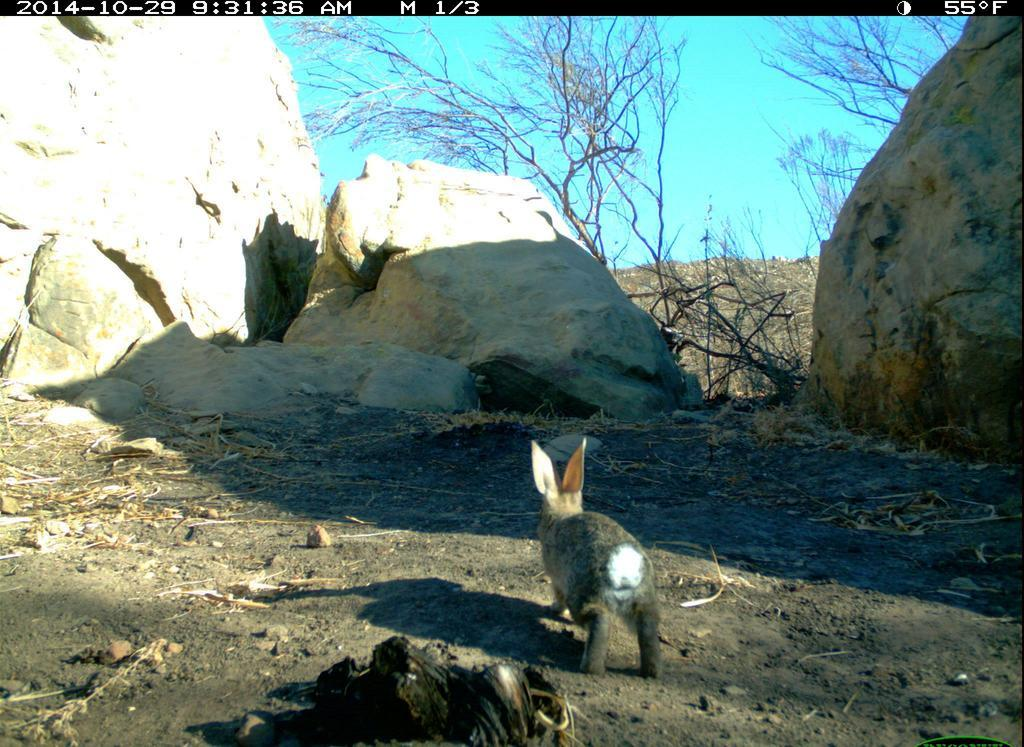rabbit: (497, 422, 697, 685)
